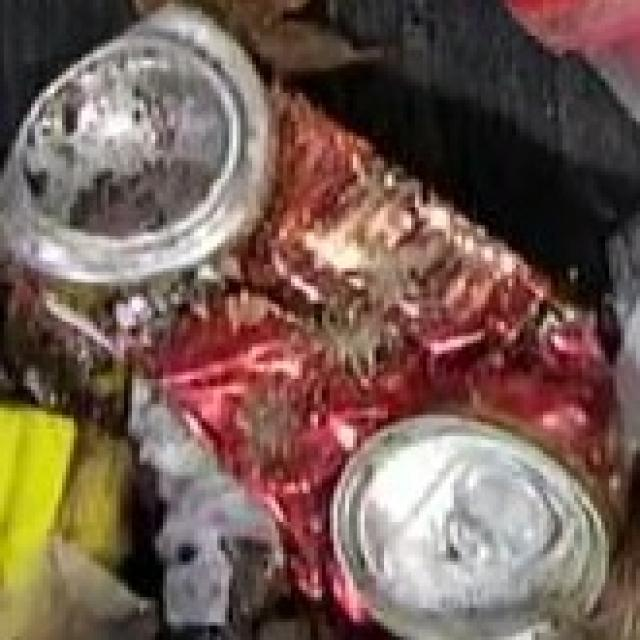litter: (0, 9, 637, 640)
